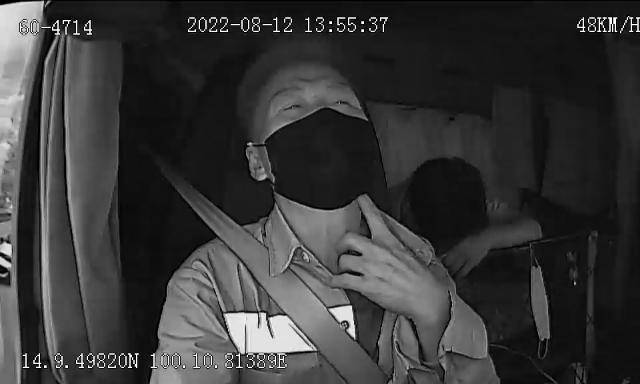SafeDriving: (323, 90, 361, 114)
Seatbelt: (148, 142, 396, 384)
